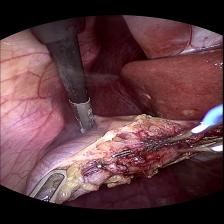Bipolar: (160, 98, 224, 159)
Grasper: (27, 168, 71, 204), (71, 94, 94, 134)
